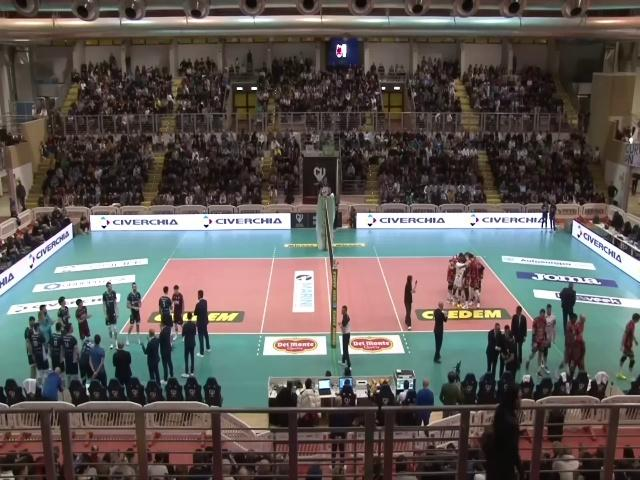volleyball court: (118, 255, 532, 334)
